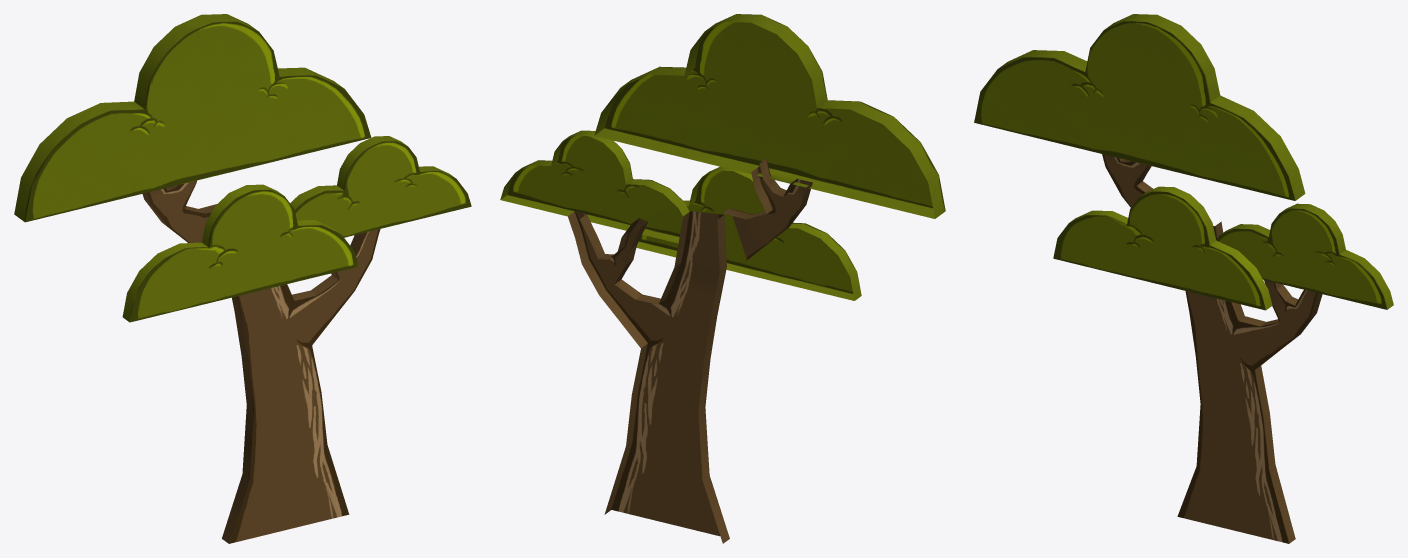
The model's file is Arbol 1.FBX.
3 renders of one model, left to right at view 1: azimuth 30°, elevation 25°; view 2: azimuth 150°, elevation 25°; view 3: azimuth 330°, elevation 25°, orthographic. The views are drawn at different scales.
Parts seen in each view (by area): view 1: Arbol; view 2: Arbol; view 3: Arbol.
Boxes of the visible parts, x1,y1,x2,y2 form: Arbol: [14, 14, 471, 543]; Arbol: [500, 14, 945, 543]; Arbol: [974, 14, 1393, 543].
Size of the model in its own units: 80.07 by 91.38 by 7.63.
